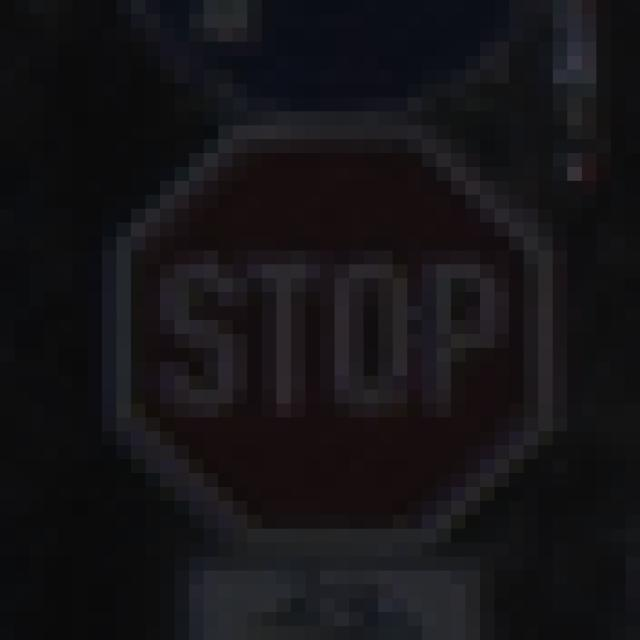STOP: (74, 85, 568, 572)
